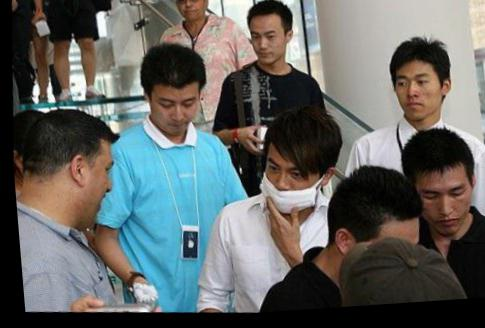NONE: (56, 156, 118, 230), (412, 182, 473, 246), (150, 86, 199, 141), (390, 76, 440, 128), (247, 25, 287, 67), (173, 1, 205, 26)
WRONG: (256, 153, 320, 216)
